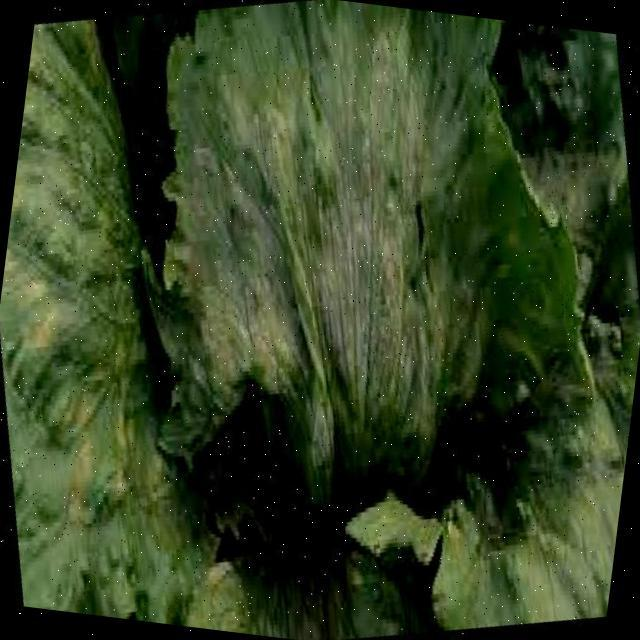Downy_mildew_on_lettuce: (151, 0, 506, 399)
